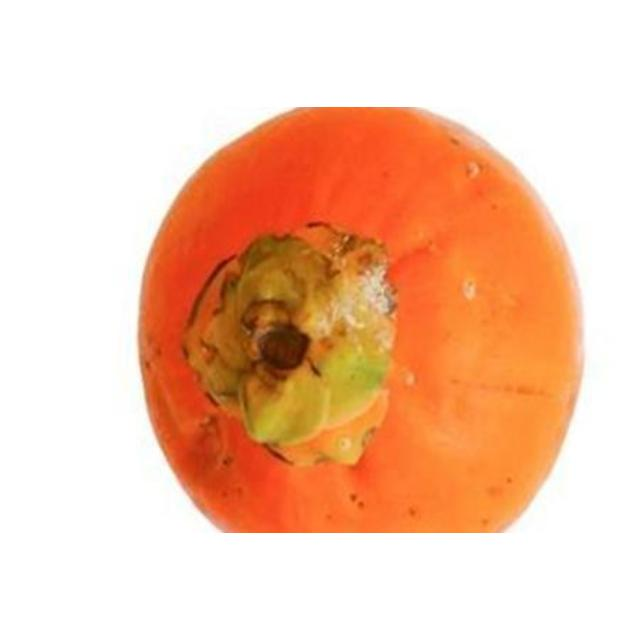good: (135, 107, 586, 532)
